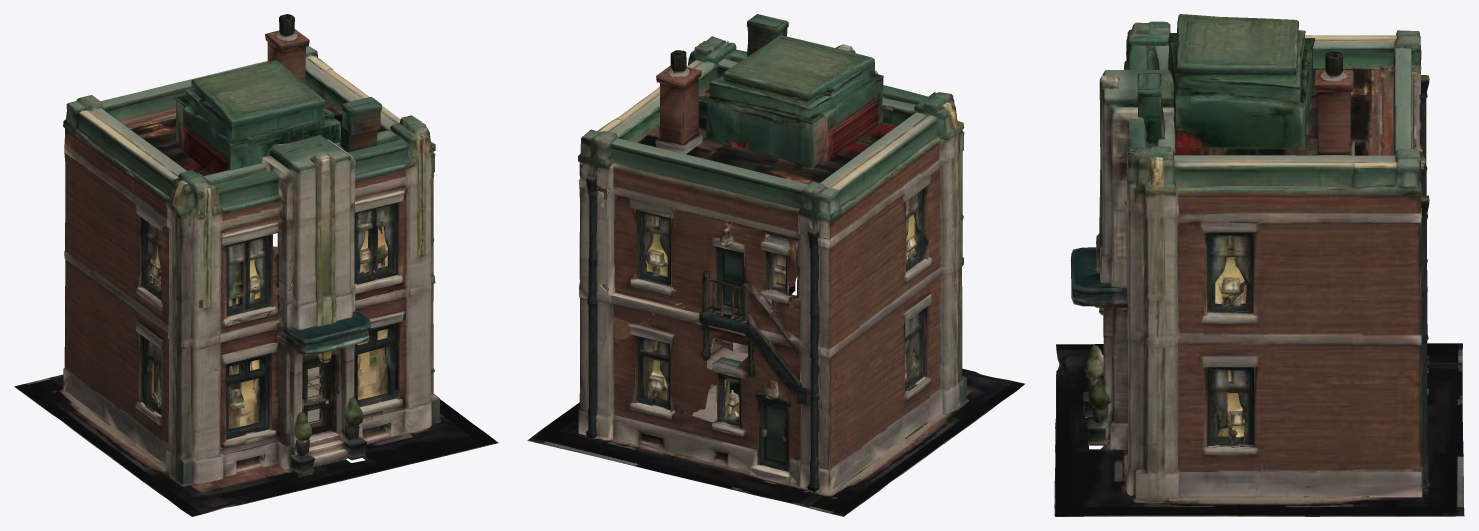
The model's file is candidate.glb.
The picture shows the model from 3 angles, left to right: view 1: azimuth 30°, elevation 25°; view 2: azimuth 150°, elevation 25°; view 3: azimuth 270°, elevation 25°; orthographic projection. The views are drawn at different scales.
Parts seen in each view (by area): view 1: expansion__tower_2__native_mobile; view 2: expansion__tower_2__native_mobile; view 3: expansion__tower_2__native_mobile.
Boxes of the visible parts, bbox=[...] form: expansion__tower_2__native_mobile: bbox=[14, 14, 498, 516]; expansion__tower_2__native_mobile: bbox=[527, 14, 1025, 516]; expansion__tower_2__native_mobile: bbox=[1054, 14, 1464, 516].
Size of the model in its own units: 0.8977 by 1 by 0.9024.
Materials: 1 (1 with a texture image).
